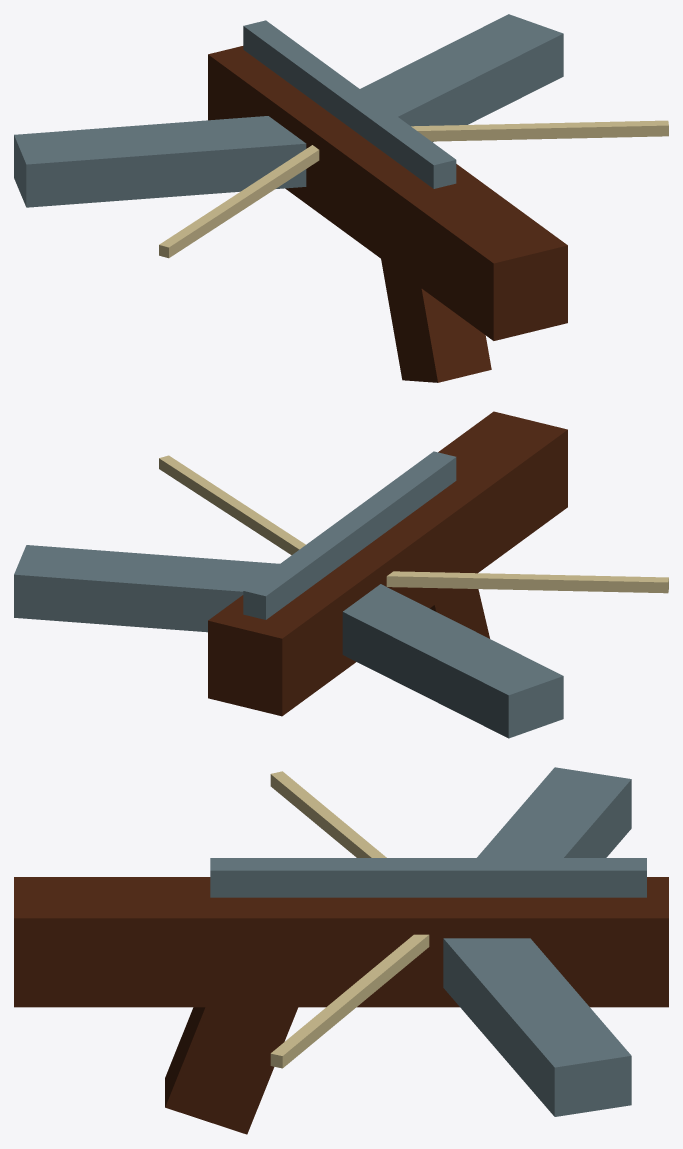
File: crossbow.glb
3 renders of one model, top to bottom at view 1: azimuth 30°, elevation 25°; view 2: azimuth 150°, elevation 25°; view 3: azimuth 270°, elevation 25°, orthographic. The views are drawn at different scales.
Parts seen in each view (by area): view 1: Stock, LeftLimb, RightLimb, Rail, Grip, RightString, LeftString; view 2: Stock, LeftLimb, RightLimb, Rail, LeftString, RightString, Grip; view 3: Stock, RightLimb, Rail, Grip, LeftLimb, RightString, LeftString.
Boxes of the visible parts, x1,y1,x2,y2 form: Stock: (208, 46, 567, 340); LeftLimb: (14, 116, 306, 207); RightLimb: (360, 14, 563, 142); Rail: (243, 20, 456, 188); Grip: (381, 259, 491, 382); RightString: (411, 120, 668, 141); LeftString: (159, 145, 319, 258); Stock: (208, 411, 567, 716); LeftLimb: (342, 584, 563, 738); RightLimb: (14, 545, 279, 632); Rail: (243, 451, 456, 619); LeftString: (386, 571, 668, 593); RightString: (159, 455, 305, 555); Grip: (430, 588, 489, 638); Stock: (14, 877, 668, 1007); RightLimb: (443, 938, 631, 1116); Rail: (210, 858, 646, 897); Grip: (165, 1007, 298, 1134); LeftLimb: (477, 767, 631, 857); RightString: (270, 934, 429, 1068); LeftString: (270, 771, 386, 857).
Size of the model in its own units: 1.3 by 0.5164 by 1.2.
